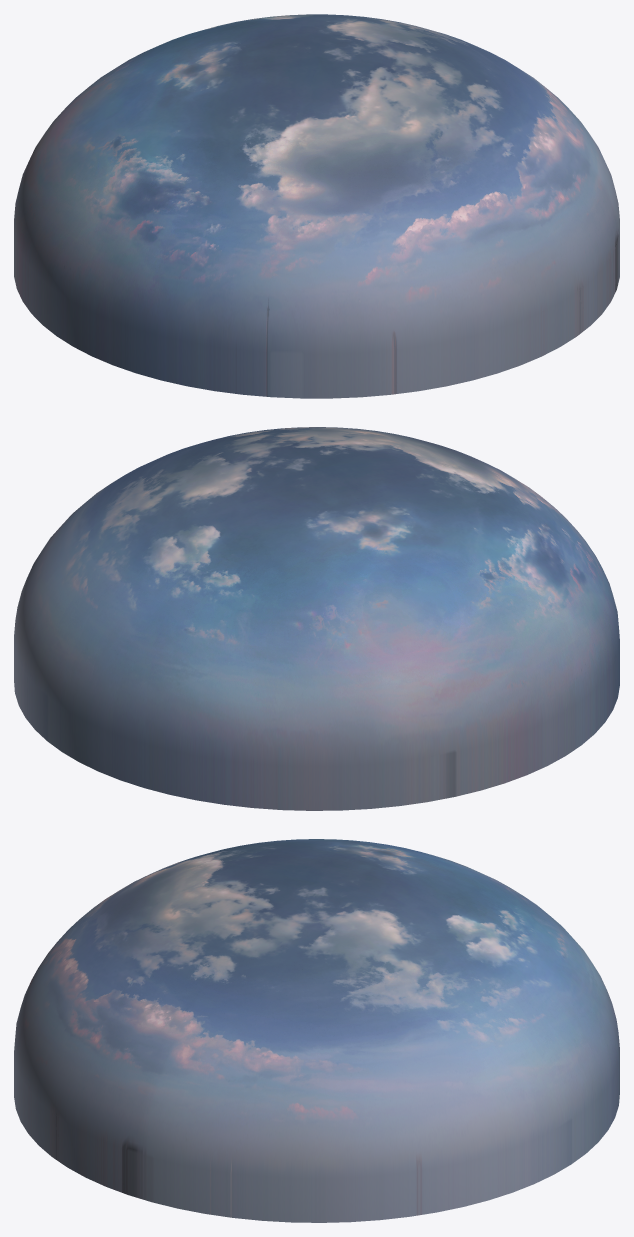
File: SKY.fbx
3 views of the same model, one above another, from view 1: azimuth 30°, elevation 25°; view 2: azimuth 150°, elevation 25°; view 3: azimuth 270°, elevation 25° (orthographic).
Parts seen in each view (by area): view 1: SkyDome_Day; view 2: SkyDome_Day; view 3: SkyDome_Day.
Part boxes in pixels (box(x1,y1,x2,y2)): SkyDome_Day: box(14, 14, 619, 398); SkyDome_Day: box(14, 427, 619, 810); SkyDome_Day: box(14, 839, 619, 1222).
Size of the model in its own units: 359010 by 139204 by 359010.
Materials: 1 (1 with a texture image).
